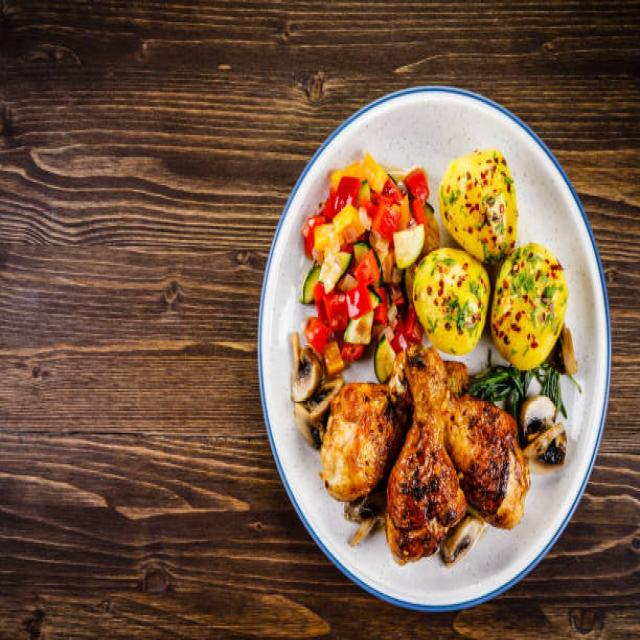Frango: (322, 338, 531, 566)
